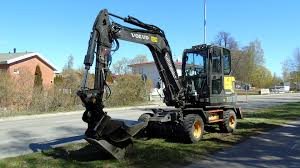excavator: (80, 7, 245, 160)
